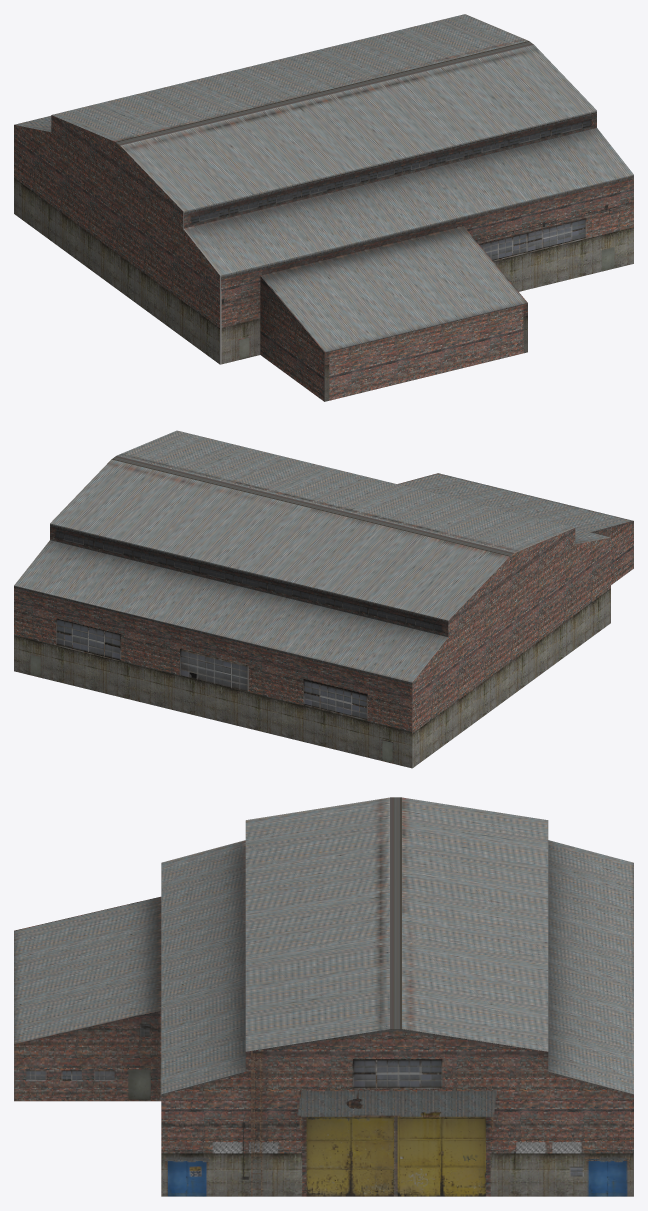
File: building_2_lod2.fbx
3 views of the same model, one above another, from view 1: azimuth 30°, elevation 25°; view 2: azimuth 150°, elevation 25°; view 3: azimuth 270°, elevation 25° (orthographic). The views are drawn at different scales.
Visible parts, largest first — view 1: Mesh Object; view 2: Mesh Object; view 3: Mesh Object.
Part boxes in pixels (x1,y1,x2,y2): Mesh Object: (14, 14, 633, 401); Mesh Object: (14, 430, 633, 768); Mesh Object: (14, 797, 633, 1196).
Size of the model in its own units: 35 by 11.8 by 39.6.
